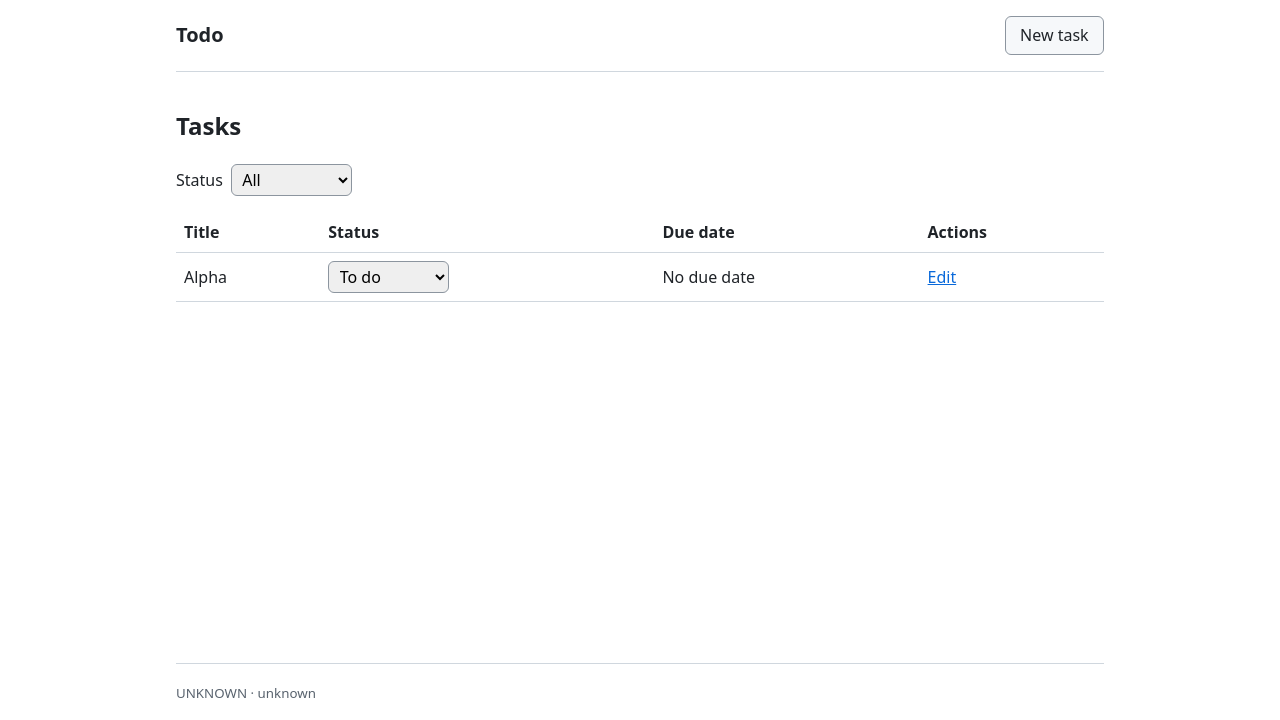
Test: SCRUM-6 task list status › SCRUM-6-AC-11, SCRUM-6-AC-13: messages are cleared when the filter changes
The width and height of the screenshot is (1280, 720).
Select "Done" in the dropdown named "Status for Alpha". click: (389, 277)
box: top-left (328, 261), bottom-right (449, 293)
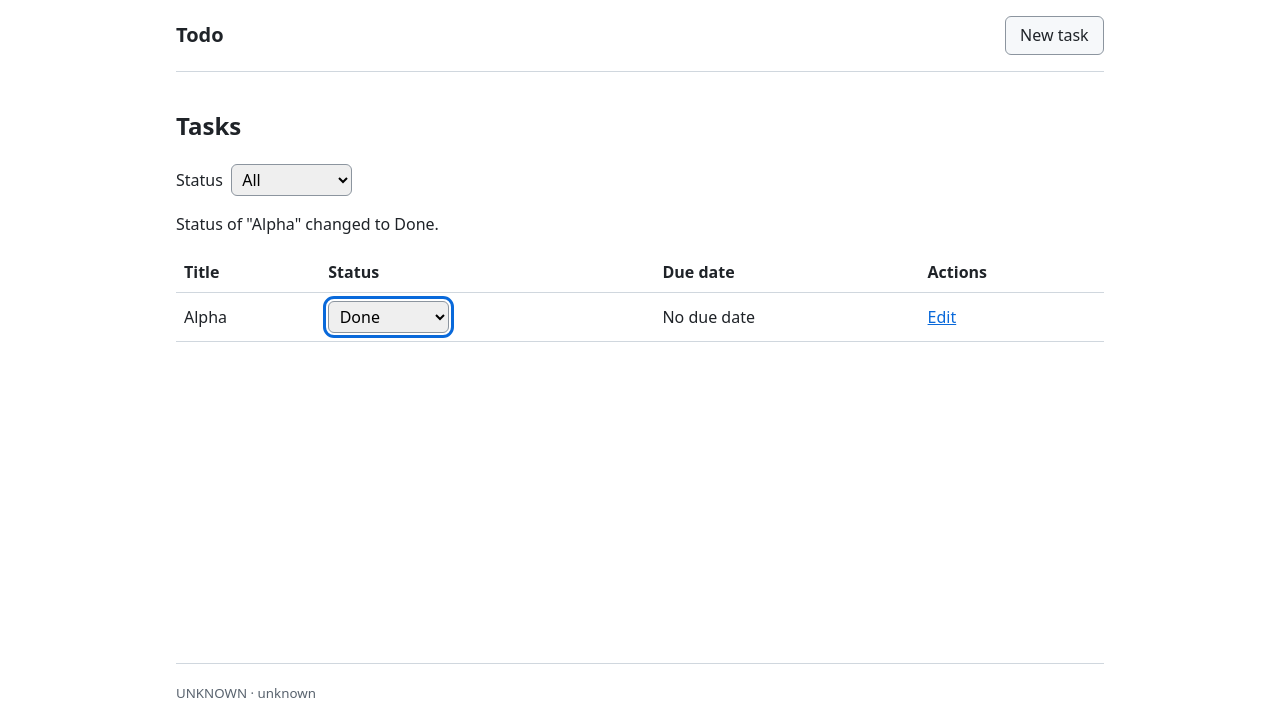
Expected: the message shows "changed to Done", top-left (176, 213), bottom-right (439, 235)
Select "Done" in the dropdown labelled "Status". click: (291, 180)
box: top-left (231, 164), bottom-right (352, 196)
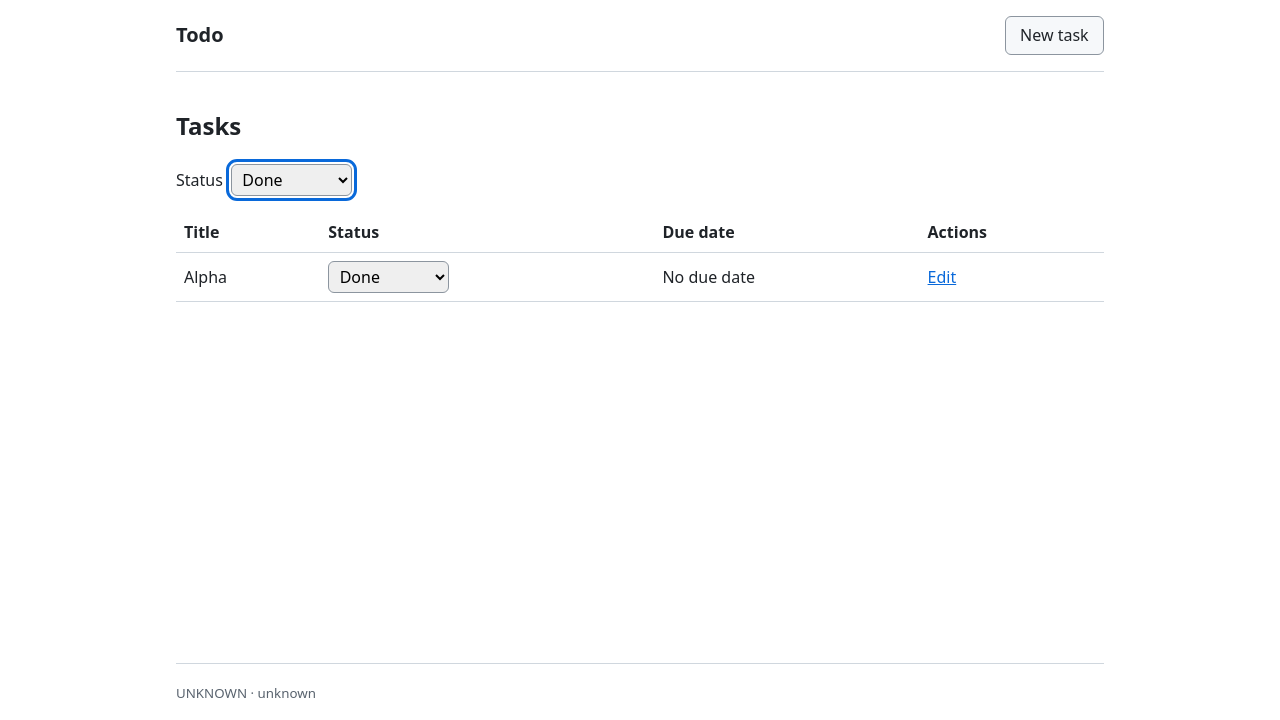
Expected: the dropdown named "Status for Alpha" is shown, top-left (328, 261), bottom-right (449, 293)
Expected: the message "Status of \"Alpha\" changed to Done." is gone
